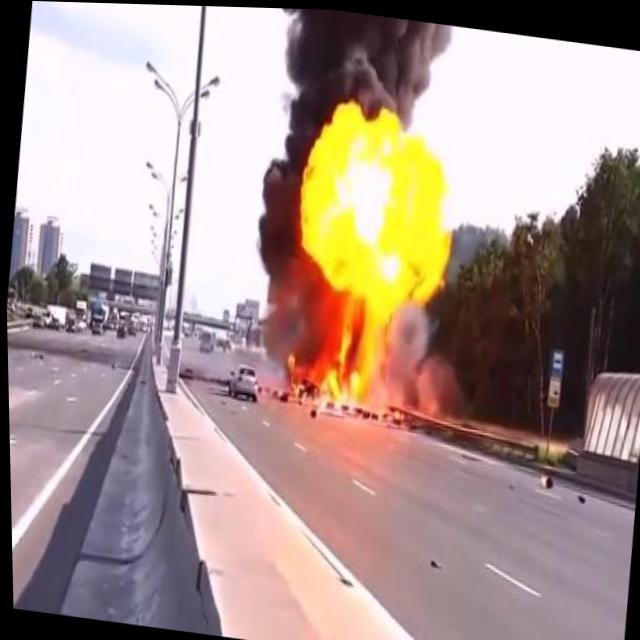fire: (271, 87, 469, 429)
